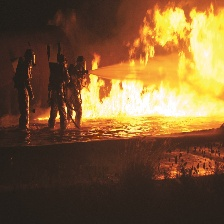fire: (69, 7, 224, 116)
